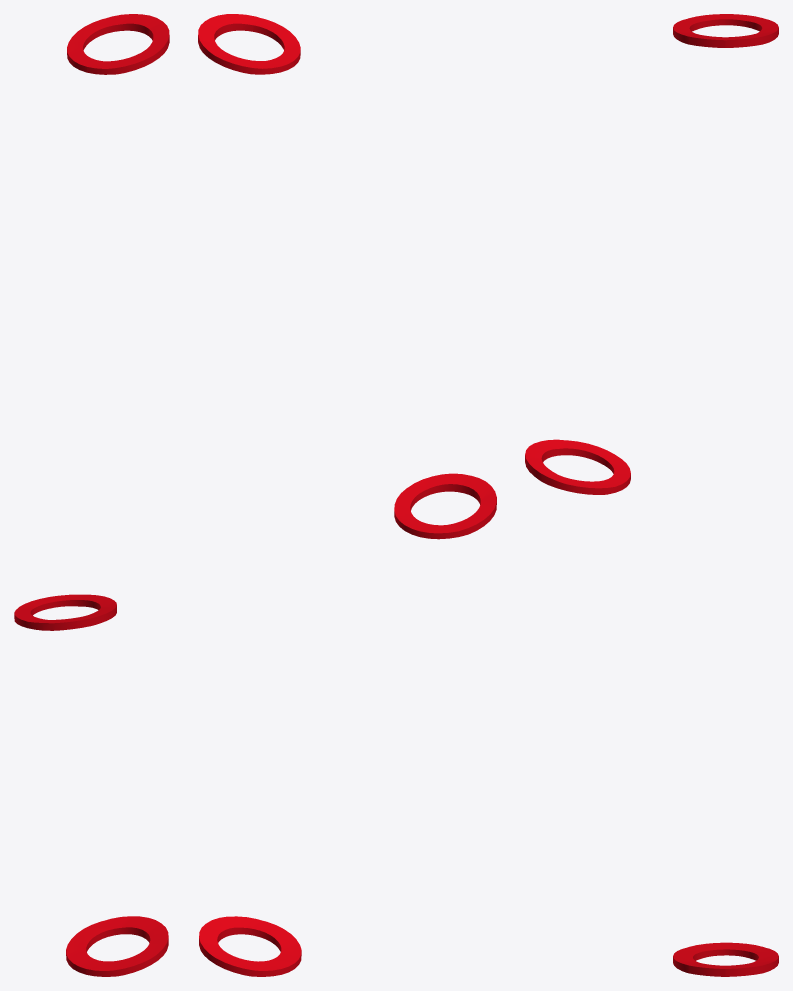
File: anaonly.glb
The picture shows the model from 3 angles, left to right: view 1: azimuth 30°, elevation 25°; view 2: azimuth 150°, elevation 25°; view 3: azimuth 270°, elevation 25°; orthographic projection. The views are drawn at different scales.
Parts seen in each view (by area): view 1: 円柱.005, 円柱.003, 円柱; view 2: 円柱.005, 円柱, 円柱.003; view 3: 円柱, 円柱.005, 円柱.003.
Part boxes in pixels (x1=…): 円柱.005: x1=66, y1=916, x2=168, y2=976; 円柱.003: x1=67, y1=14, x2=169, y2=74; 円柱: x1=14, y1=594, x2=116, y2=630; 円柱.005: x1=199, y1=916, x2=301, y2=976; 円柱: x1=394, y1=473, x2=496, y2=539; 円柱.003: x1=198, y1=14, x2=300, y2=74; 円柱: x1=525, y1=439, x2=630, y2=494; 円柱.005: x1=673, y1=942, x2=778, y2=976; 円柱.003: x1=673, y1=14, x2=778, y2=47.
Size of the model in its own units: 2.3 by 9.55 by 2.3.
